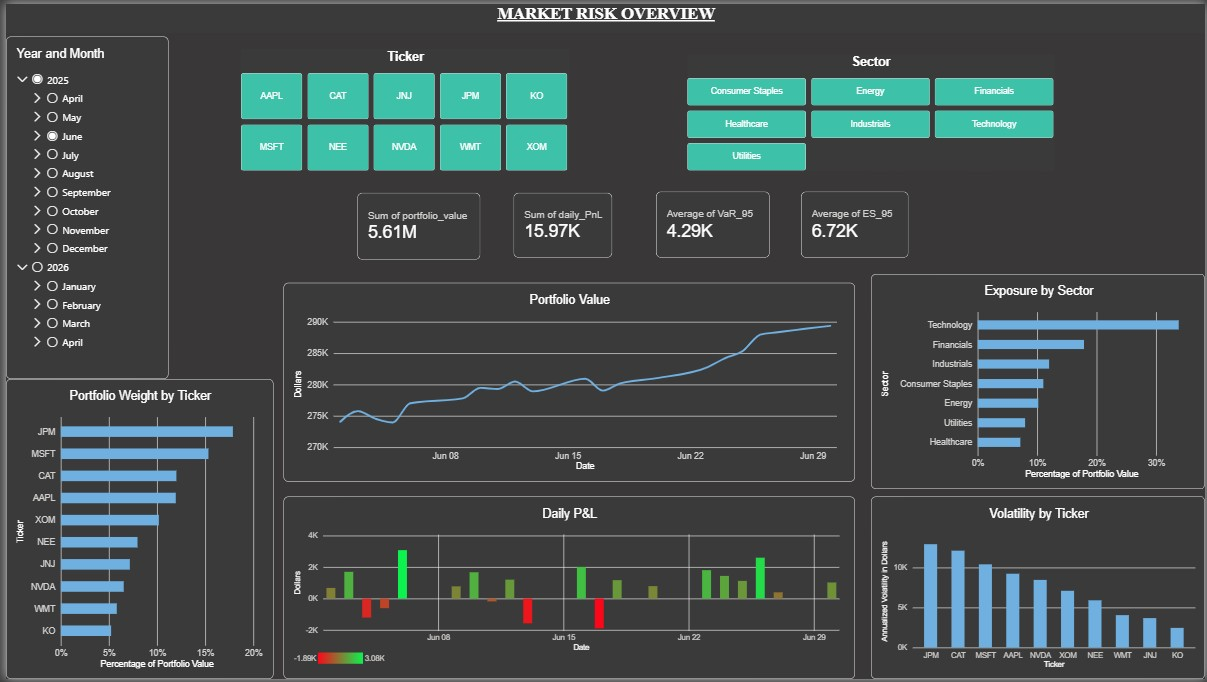

Layout of this report page (visuals, bound fields, positions):
{"tool":"powerbi","page":{"name":"Page 1","canvas":[1920,1080],"ordinal":0},"visuals":[{"type":"textbox","box":[0,0,1920,46],"z":0},{"type":"listSlicer","fields":{"Values":["risk_metrics.trade_date.Variation.Date Hierarchy.Year","risk_metrics.trade_date.Variation.Date Hierarchy.Month","risk_metrics.trade_date.Variation.Date Hierarchy.Day"]},"box":[0,52,260,548],"z":1000},{"type":"advancedSlicerVisual","title":"Ticker","fields":{"Values":["exposure_view.ticker"]},"box":[376,72,526.7,195],"z":2000},{"type":"advancedSlicerVisual","title":"Sector","fields":{"Values":["exposure_view.sector"]},"box":[1090,80,588,188],"z":3000},{"type":"cardVisual","fields":{"Data":["Sum(risk_metrics.portfolio_value)"]},"box":[561.2,301.2,197.5,107.5],"z":4000},{"type":"cardVisual","fields":{"Data":["Sum(risk_metrics.daily_pnl)"]},"box":[812,302,158,104],"z":5000},{"type":"cardVisual","fields":{"Data":["Avg(risk_metrics.var_95)"]},"box":[1040,300,182,106],"z":6000},{"type":"cardVisual","fields":{"Data":["Avg(risk_metrics.es_95)"]},"box":[1272,300,172,106],"z":7000},{"type":"lineChart","title":"Portfolio Value","fields":{"Category":["risk_metrics.trade_date"],"Y":["Avg(risk_metrics.portfolio_value)"]},"box":[444,446,914,318],"z":8000},{"type":"barChart","title":"Exposure by Sector","fields":{"Category":["exposure_view.sector"],"Y":["Sum(exposure_view.market_value)"]},"box":[1384,432,536,344],"z":9000},{"type":"clusteredColumnChart","title":"Daily P&L","fields":{"Category":["risk_metrics.trade_date"],"Y":["Avg(risk_metrics.daily_pnl)"]},"box":[444,788,914,292],"z":10000},{"type":"barChart","title":"Portfolio Weight by Ticker","fields":{"Category":["exposure_view.ticker"],"Y":["Sum(exposure_view.market_value)"]},"box":[0,600,428,480],"z":11000},{"type":"columnChart","title":"Volatility by Ticker","fields":{"Category":["asset_volatility.ticker"],"Y":["Avg(asset_volatility.annualized_volatility)"]},"box":[1384,788,536,292],"z":12000}]}

Visuals, with their boxes in screenshot pixels (x1, y1, x2, y2), scaled from the page's 1920x1080 canvas onto the 1207x682 screenshot:
textbox: rect(0, 0, 1206, 29)
listSlicer - risk_metrics.trade_date.Variation.Date Hierarchy.Year x risk_metrics.trade_date.Variation.Date Hierarchy.Month: rect(0, 33, 163, 379)
"Ticker" advancedSlicerVisual: rect(236, 45, 567, 169)
"Sector" advancedSlicerVisual: rect(685, 51, 1055, 169)
cardVisual - Sum(risk_metrics.portfolio_value): rect(353, 190, 477, 258)
cardVisual - Sum(risk_metrics.daily_pnl): rect(510, 191, 610, 256)
cardVisual - Avg(risk_metrics.var_95): rect(654, 189, 768, 256)
cardVisual - Avg(risk_metrics.es_95): rect(800, 189, 908, 256)
"Portfolio Value" lineChart: rect(279, 282, 854, 482)
"Exposure by Sector" barChart: rect(870, 273, 1206, 490)
"Daily P&L" clusteredColumnChart: rect(279, 498, 854, 681)
"Portfolio Weight by Ticker" barChart: rect(0, 379, 269, 681)
"Volatility by Ticker" columnChart: rect(870, 498, 1206, 681)
